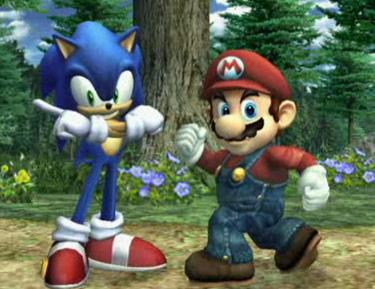mario: (170, 39, 332, 279)
